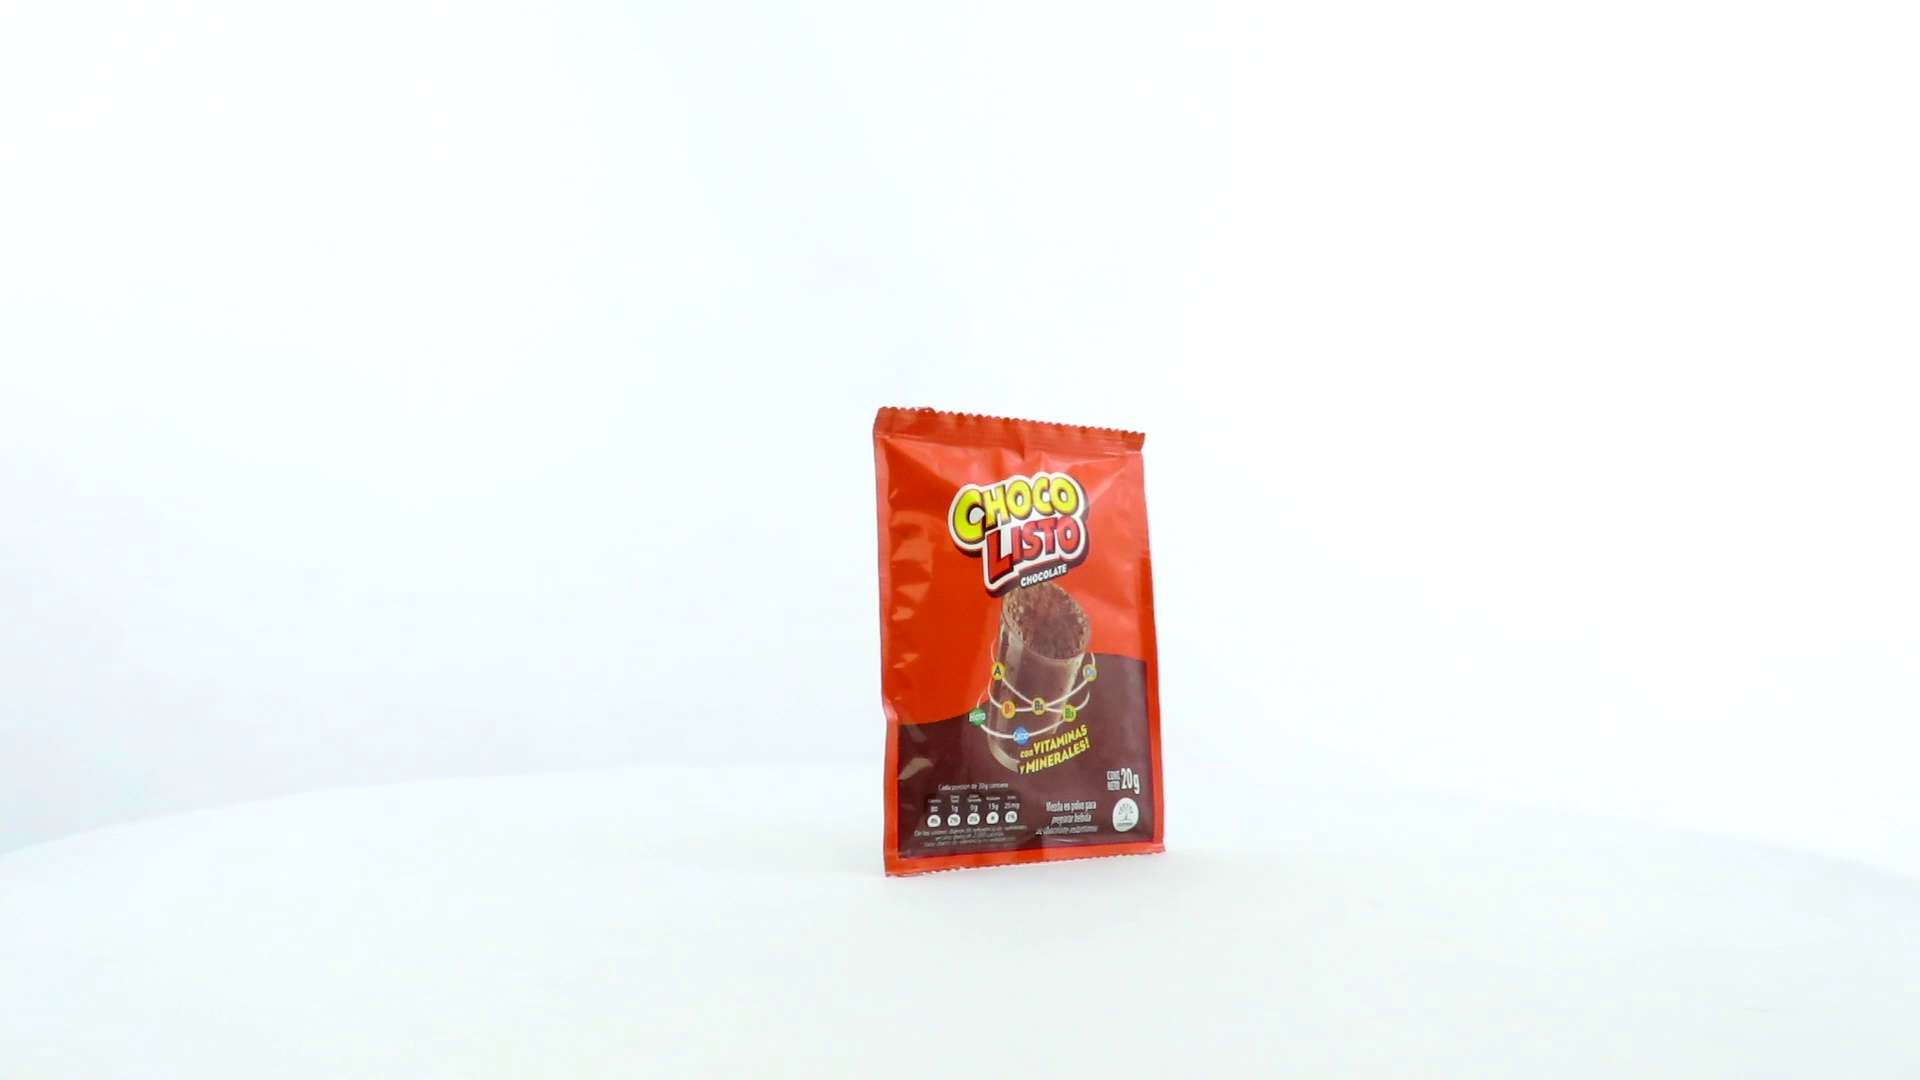COL0170103SOB02000: (866, 401, 1172, 884)
